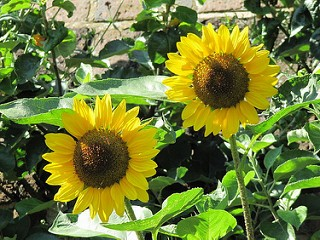flower: (40, 94, 162, 224), (160, 21, 280, 141)
